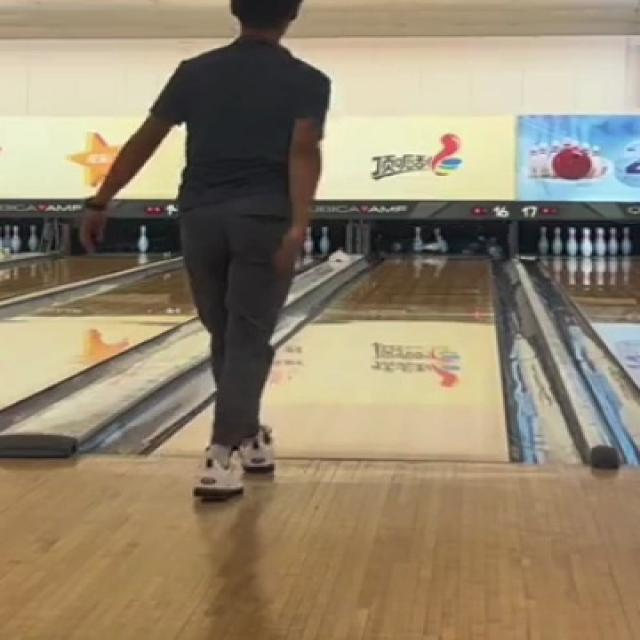alley: (261, 260, 507, 460)
bottle: (370, 223, 503, 257)
